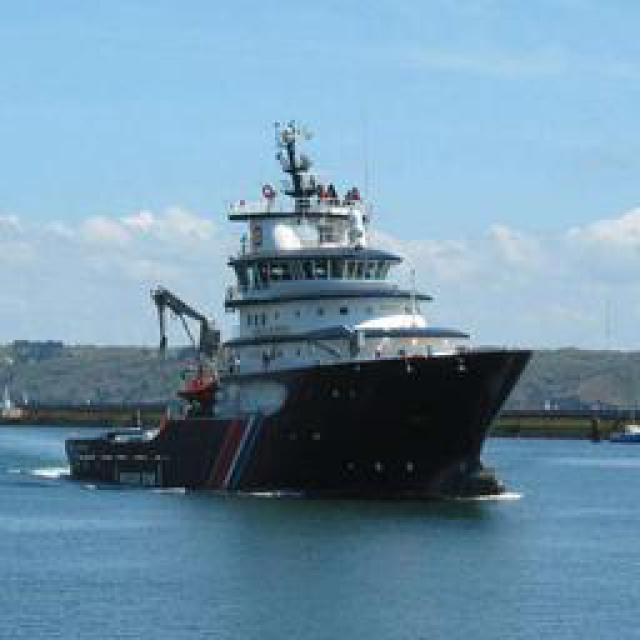Ship: (108, 116, 556, 499)
